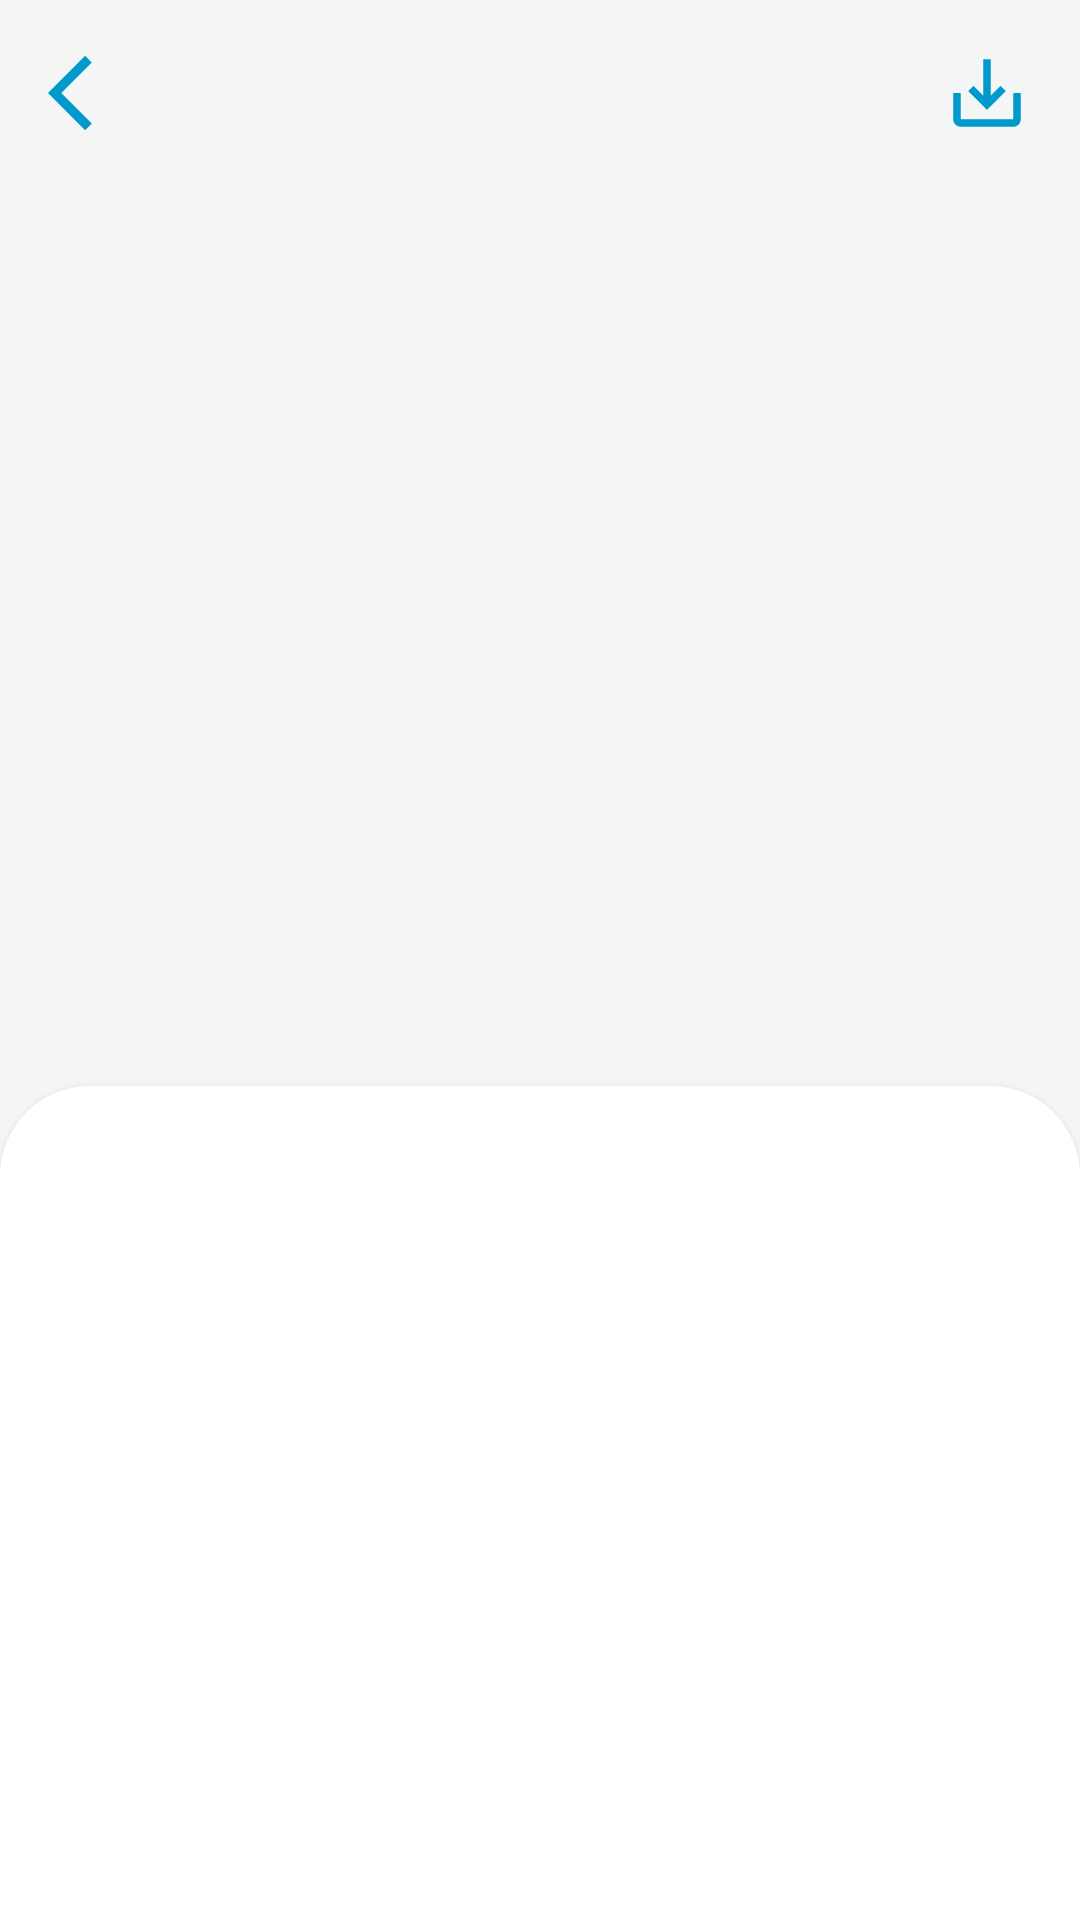

Named icons in this screenshot (1080 x 1920) and their bounding boxes, (x1, y1, x2, y2):
arrow back: (48, 56, 92, 130)
save: (953, 59, 1021, 127)
